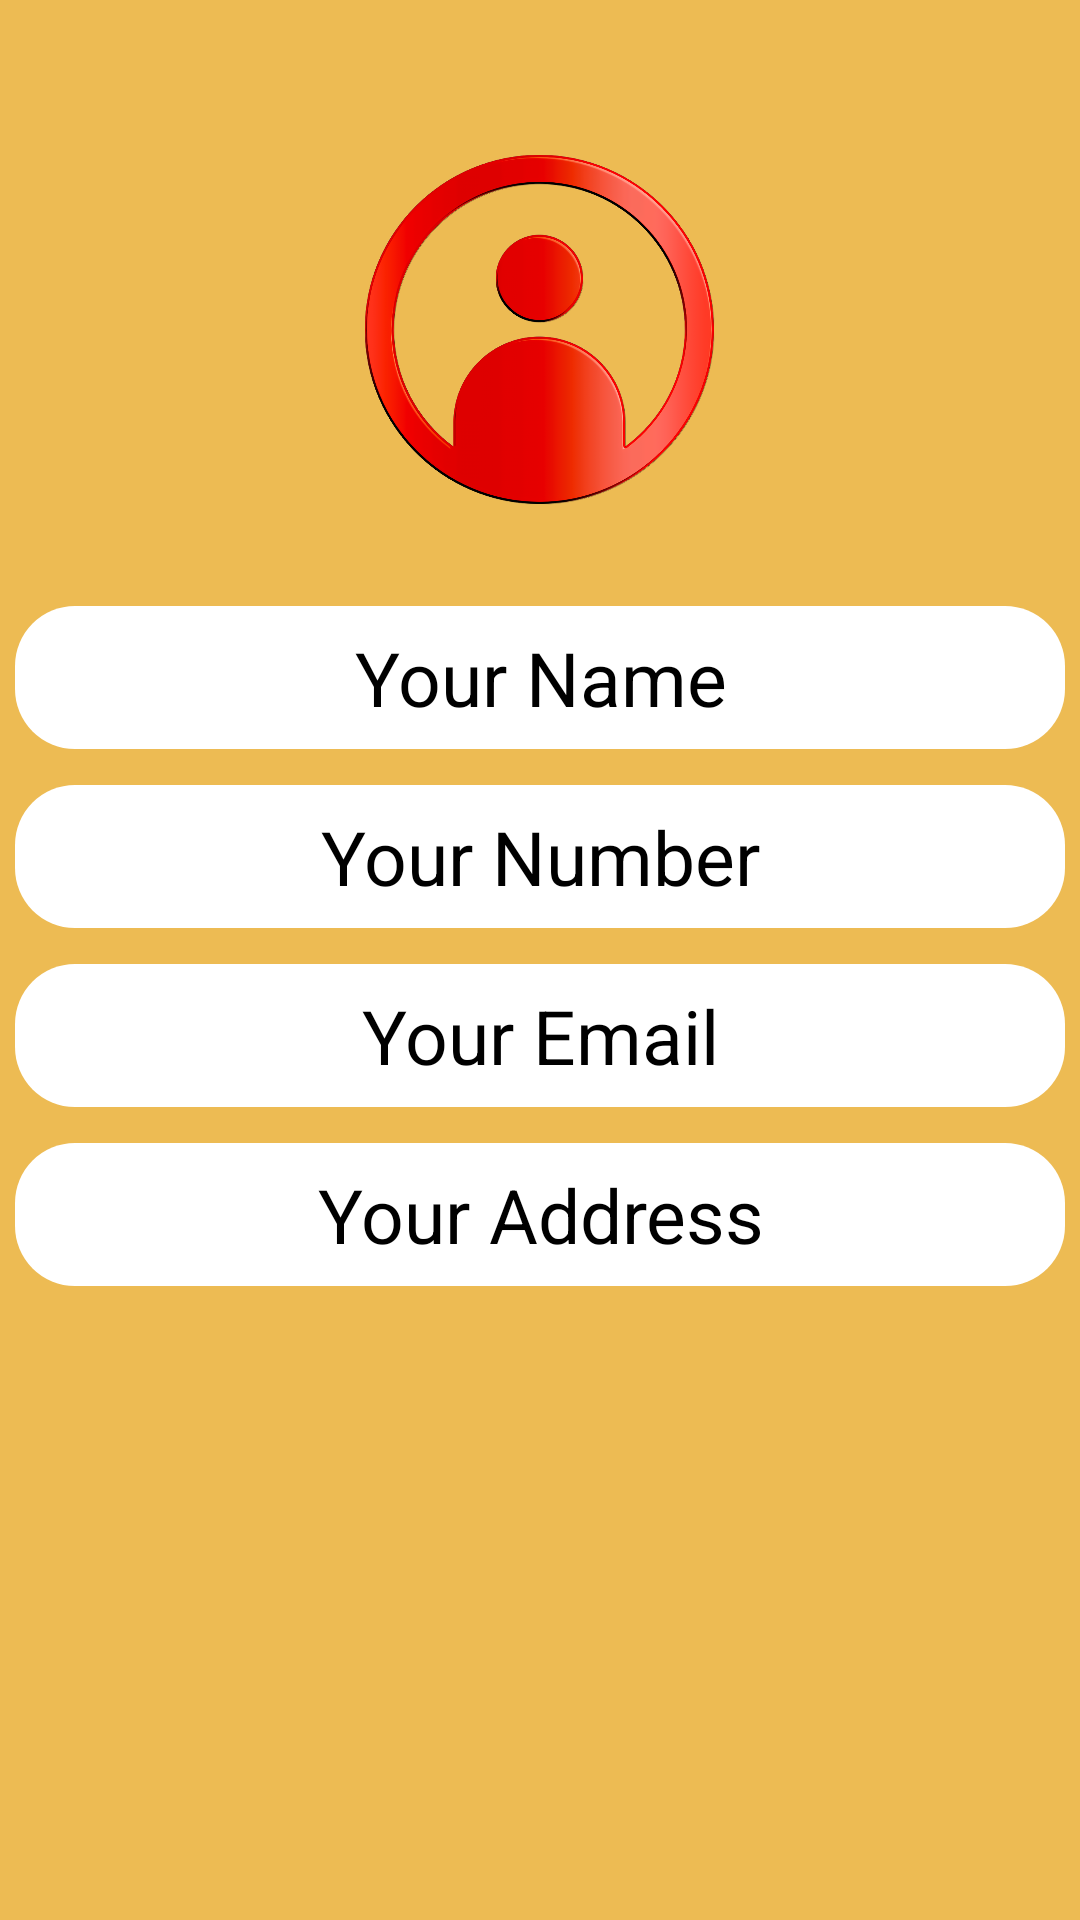

Where icons sit on this 1080 x 1920 app screen, as (x1, y1, x2, y2):
profile: (365, 155, 714, 504)
